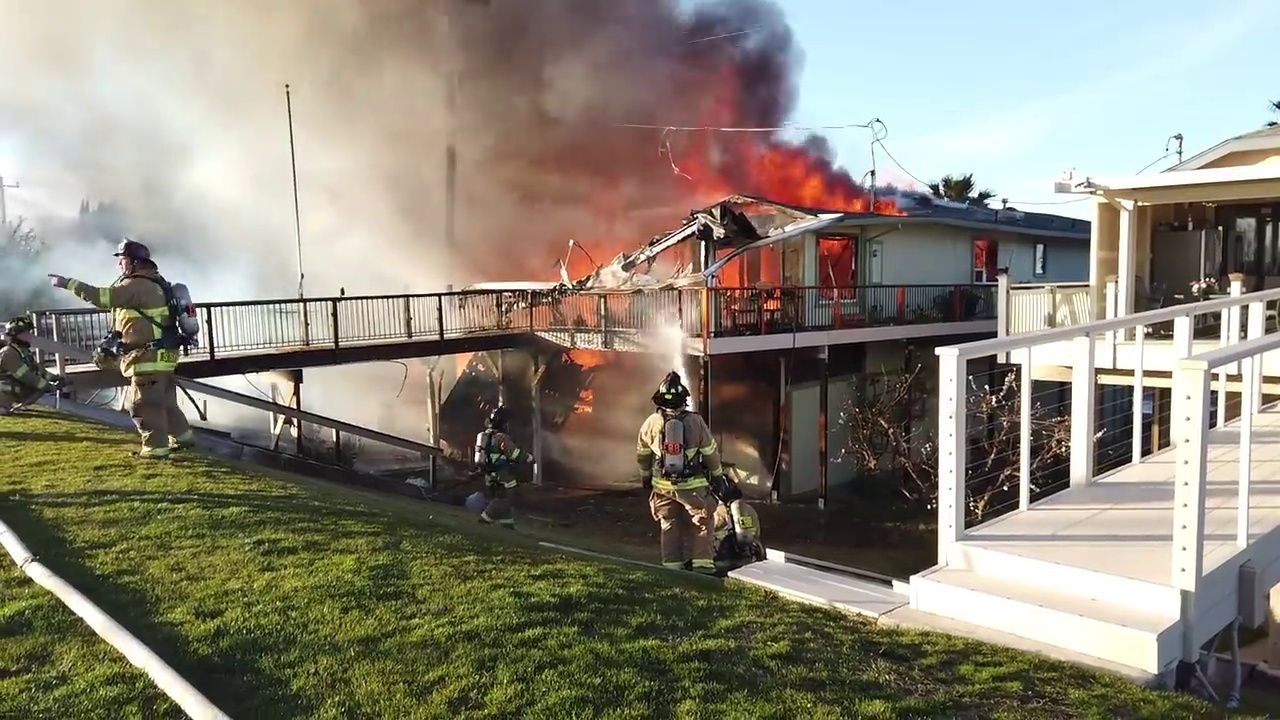fire: (684, 135, 909, 212), (724, 245, 780, 287), (818, 241, 852, 284), (567, 345, 607, 373), (569, 384, 594, 418), (1269, 573, 1280, 634), (973, 242, 992, 270)
smoke: (1, 5, 457, 289), (456, 1, 826, 150), (460, 154, 684, 243), (304, 370, 429, 435), (203, 390, 268, 443)
